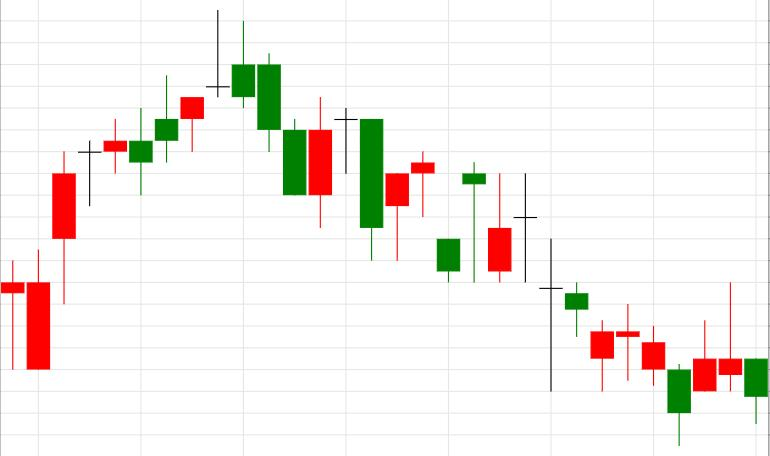shooting_star_fall: (1, 9, 254, 370)
